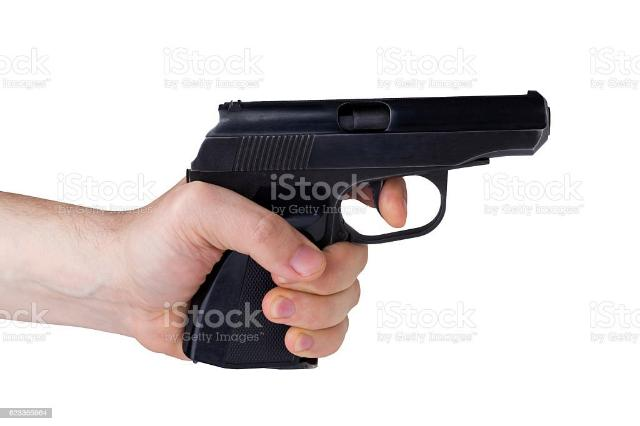handgun: (178, 88, 558, 372)
